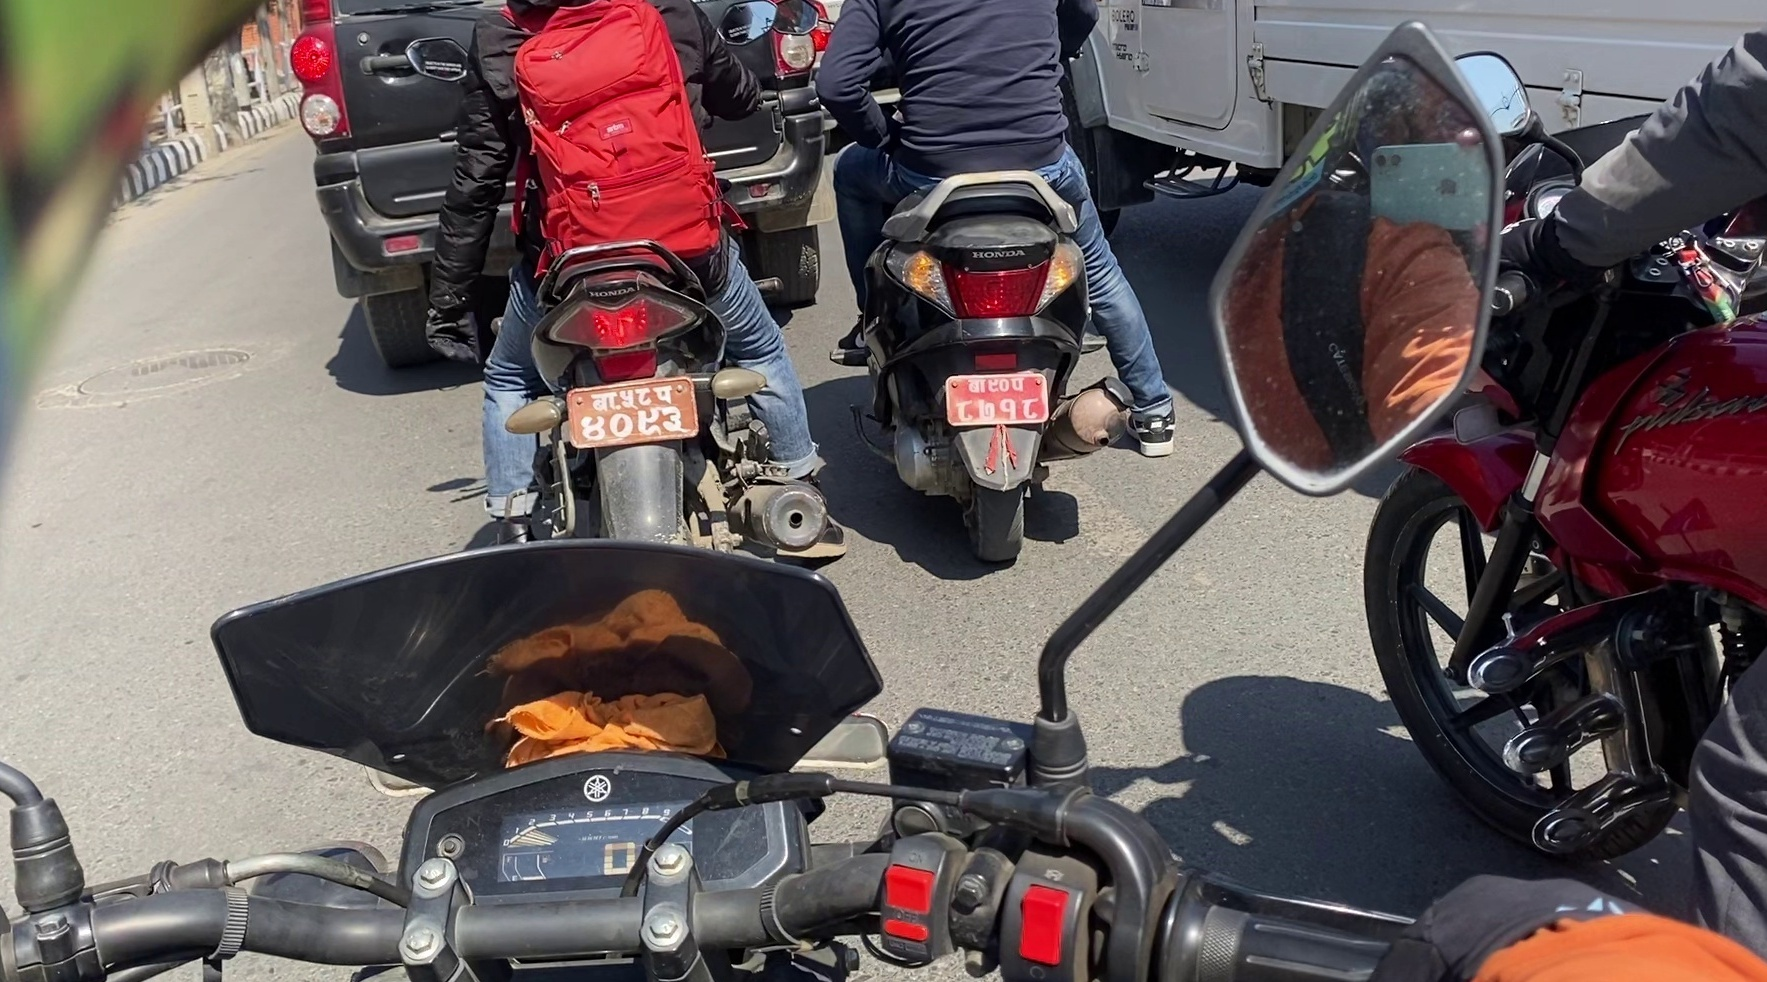license_plate: (564, 376, 701, 452), (943, 370, 1051, 430)
